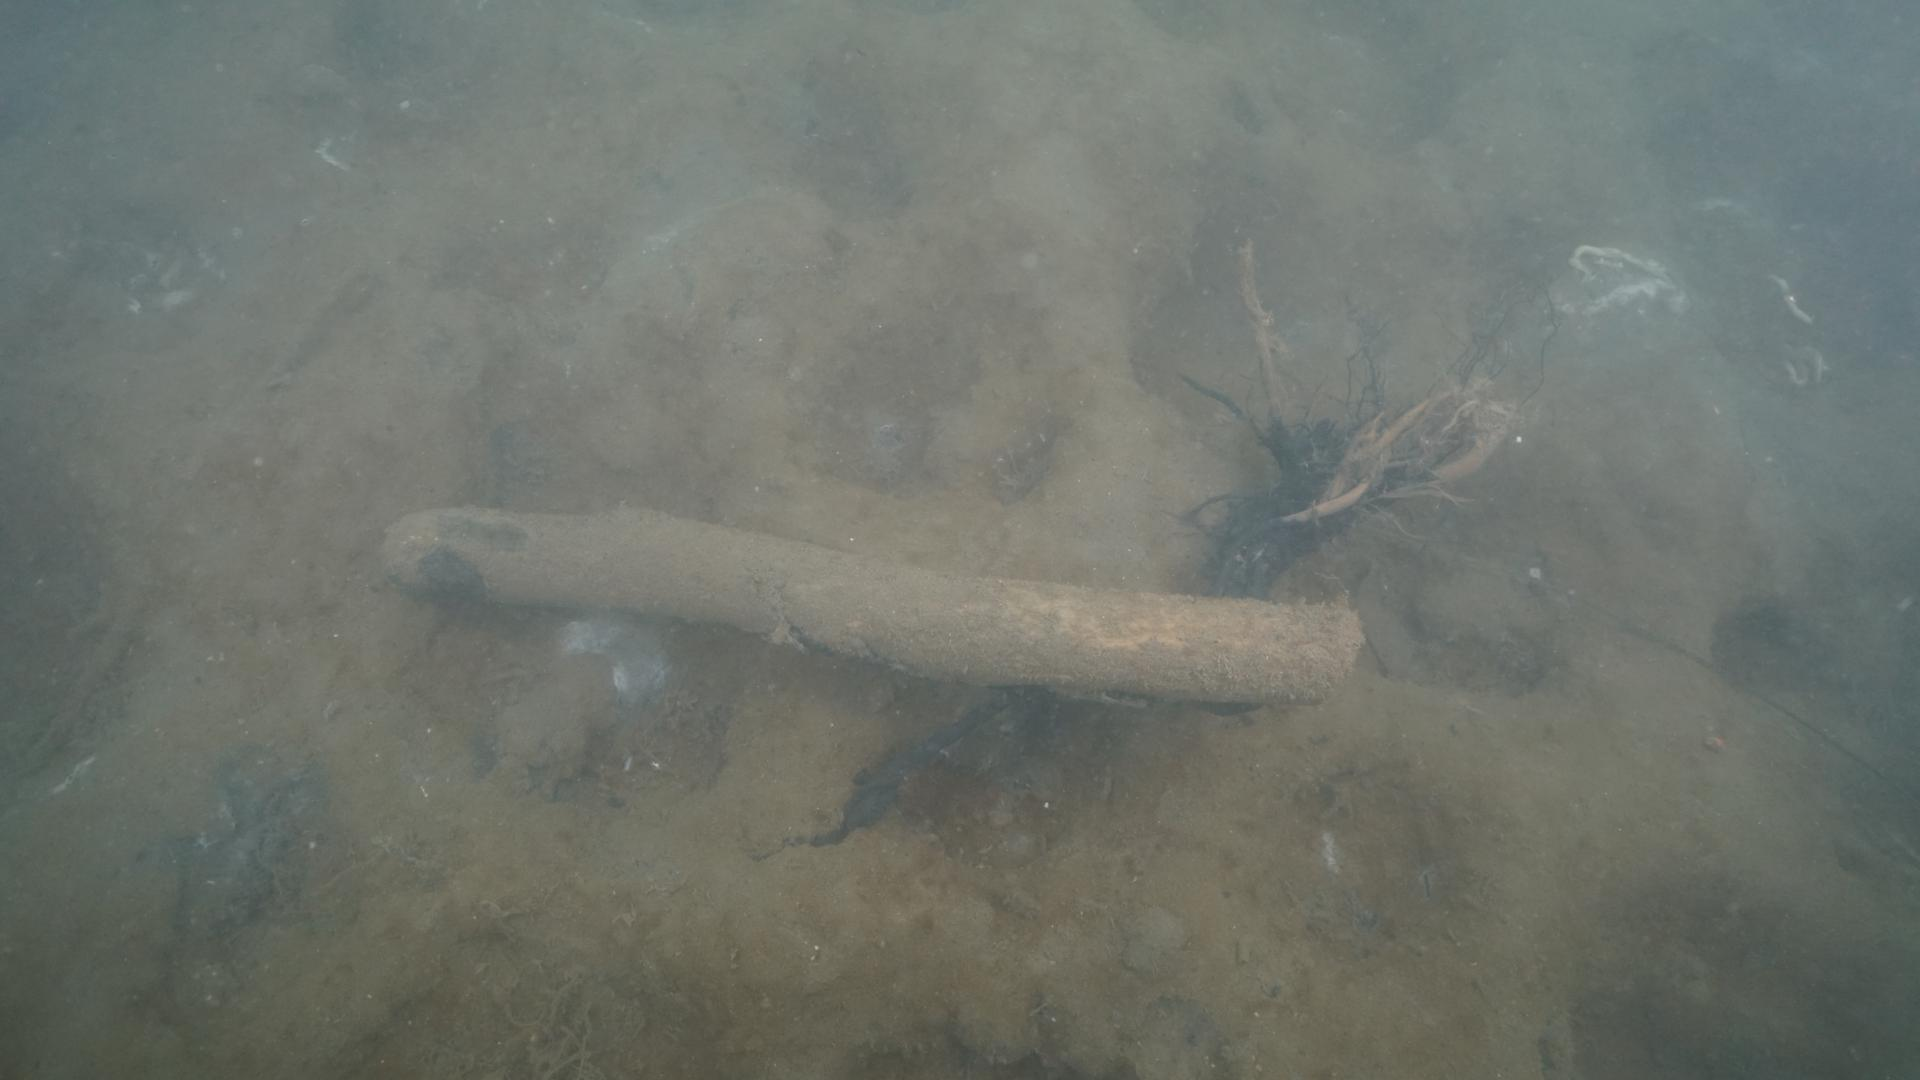wood: (389, 497, 1360, 696)
